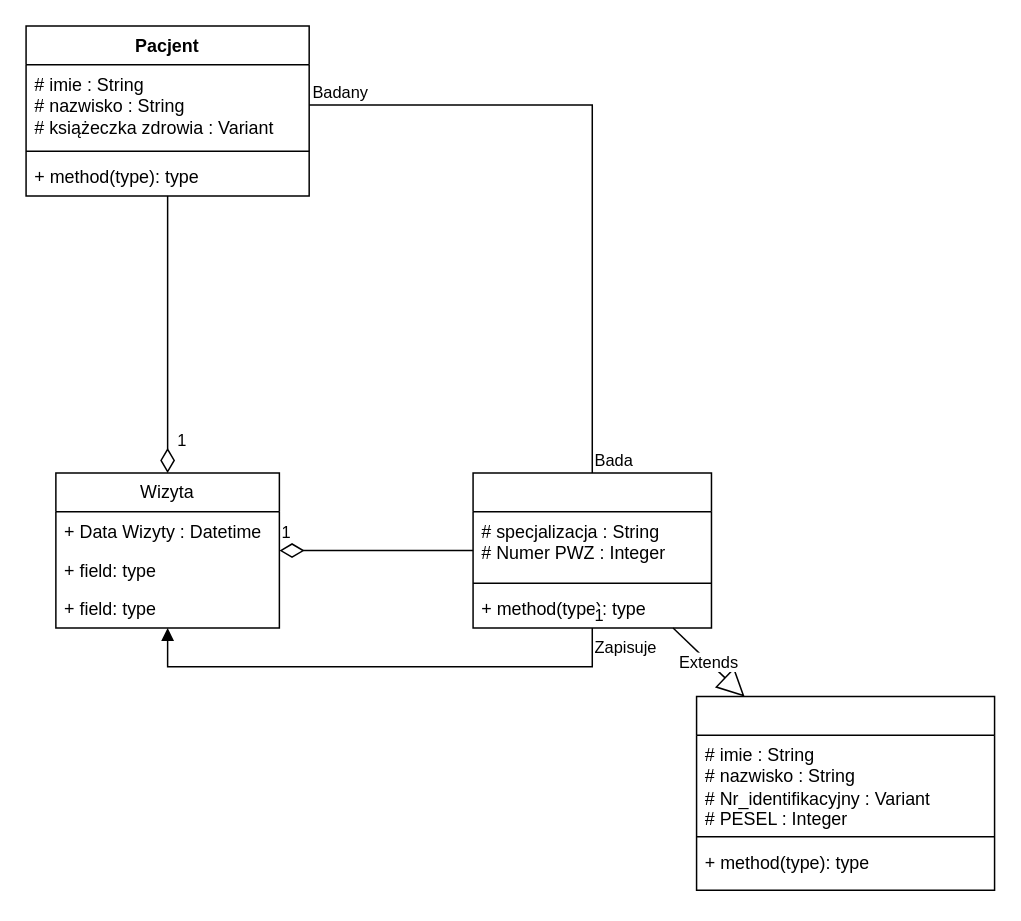
Image size: 1021x921. Some labels were removed from this diagram. Each missing label, with the box of its shape:
Lekarz: (472, 472, 711, 628)
Pracownik: (695, 695, 995, 890)
